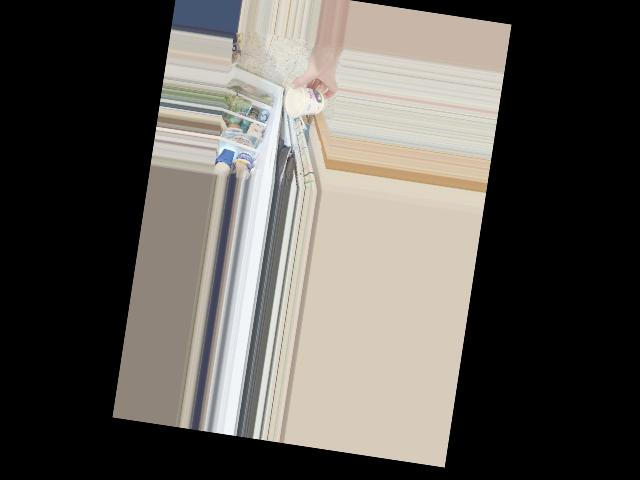cotage: (283, 81, 329, 120)
